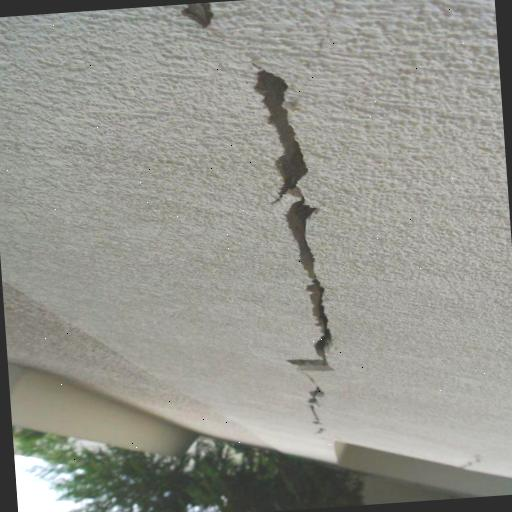spalling: (238, 62, 337, 393)
